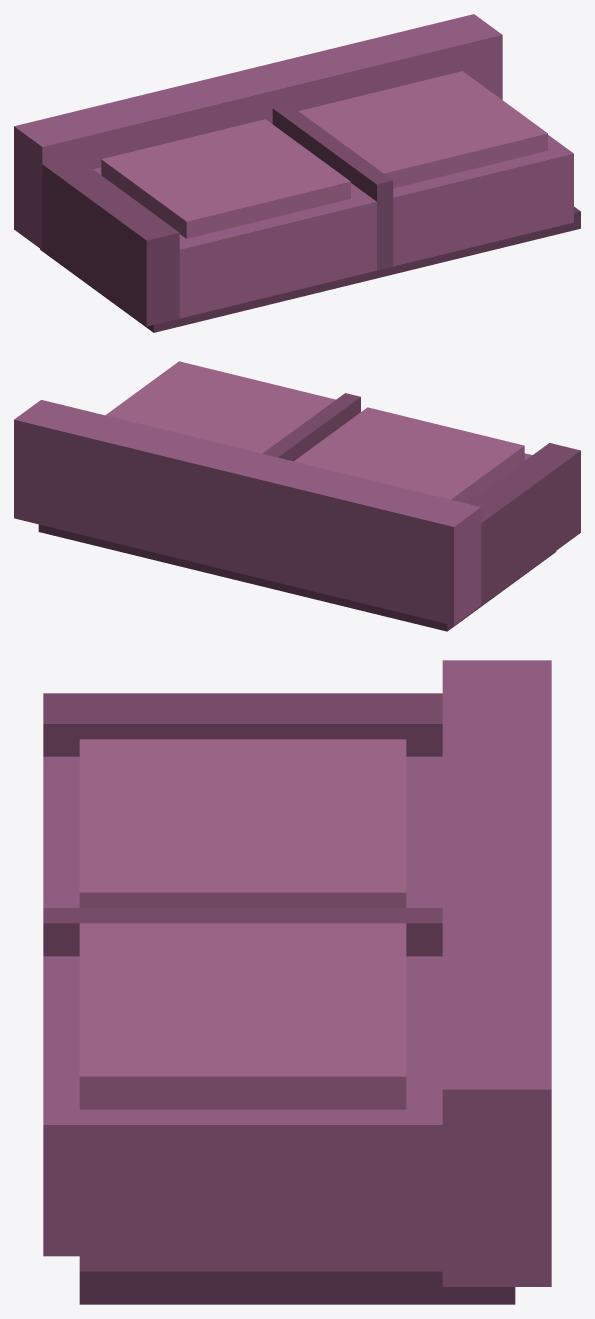
File: divan_seda_noble_01.glb
The picture shows the model from 3 angles, top to bottom: view 1: azimuth 30°, elevation 25°; view 2: azimuth 150°, elevation 25°; view 3: azimuth 270°, elevation 25°; orthographic projection. The views are drawn at different scales.
Parts seen in each view (by area): view 1: divan_seda_noble; view 2: divan_seda_noble; view 3: divan_seda_noble.
Boxes of the visible parts, x1=… form: divan_seda_noble: x1=14, y1=14, x2=580, y2=332; divan_seda_noble: x1=14, y1=361, x2=580, y2=631; divan_seda_noble: x1=43, y1=660, x2=551, y2=1304.
Bounding box in the file's own units: 2 × 0.5 × 1.
